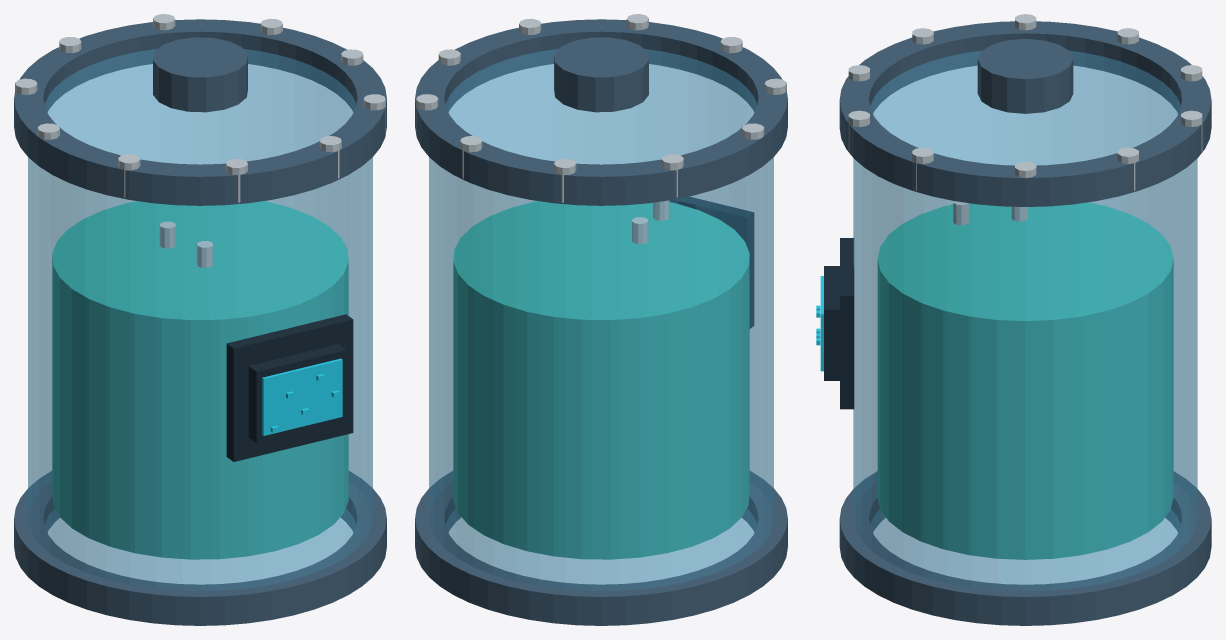
File: 13_L76_ElectrolyteDegassingModule.fbx
3 renders of one model, left to right at view 1: azimuth 30°, elevation 25°; view 2: azimuth 150°, elevation 25°; view 3: azimuth 270°, elevation 25°, orthographic.
Visible parts, largest first — view 1: ElectrolyteDegassingModule; view 2: ElectrolyteDegassingModule; view 3: ElectrolyteDegassingModule.
Boxes of the visible parts, bbox=[...] form: ElectrolyteDegassingModule: bbox=[14, 14, 386, 625]; ElectrolyteDegassingModule: bbox=[415, 14, 787, 625]; ElectrolyteDegassingModule: bbox=[816, 14, 1211, 625].
Bounding box in the file's own units: 117 × 169 × 124.
